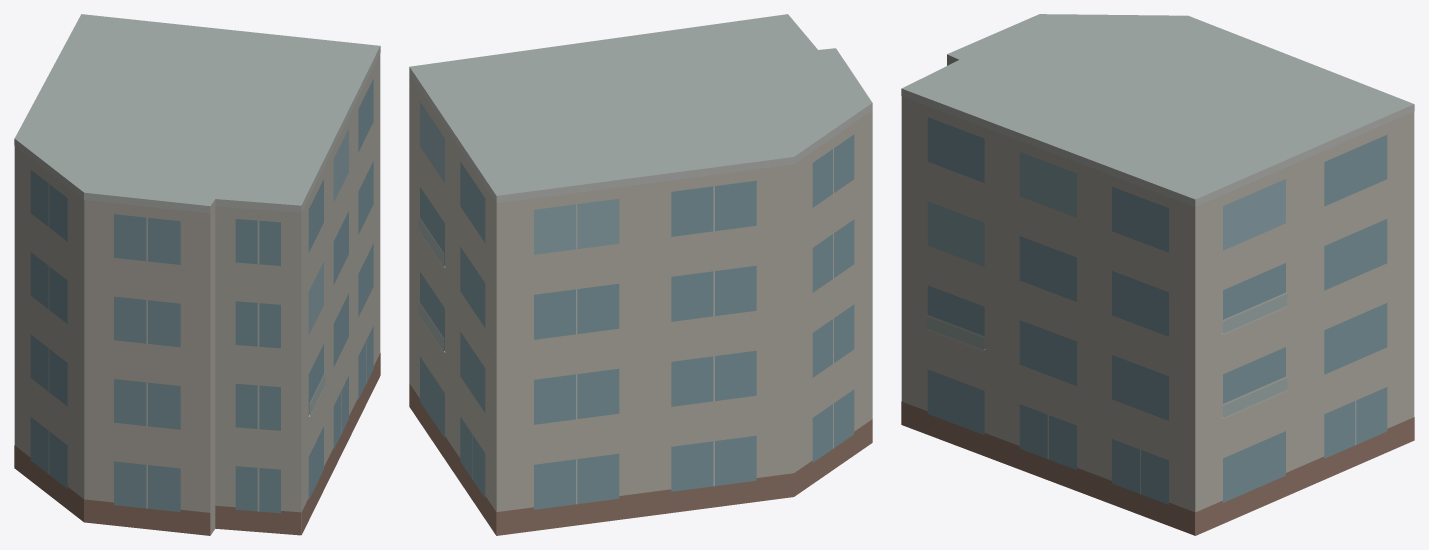
Rendered from survey-upis-32929495.glb.
3 views of the same model, side by side, from view 1: azimuth 30°, elevation 25°; view 2: azimuth 150°, elevation 25°; view 3: azimuth 270°, elevation 25° (orthographic). The views are drawn at different scales.
Visible parts, largest first — view 1: survey-upis-32929495.tmp; view 2: survey-upis-32929495.tmp; view 3: survey-upis-32929495.tmp.
Part boxes in pixels (bbox=[...]): survey-upis-32929495.tmp: bbox=[14, 14, 380, 535]; survey-upis-32929495.tmp: bbox=[409, 14, 872, 535]; survey-upis-32929495.tmp: bbox=[901, 14, 1414, 535].
Size of the model in its own units: 13.14 by 11.1 by 15.35.
